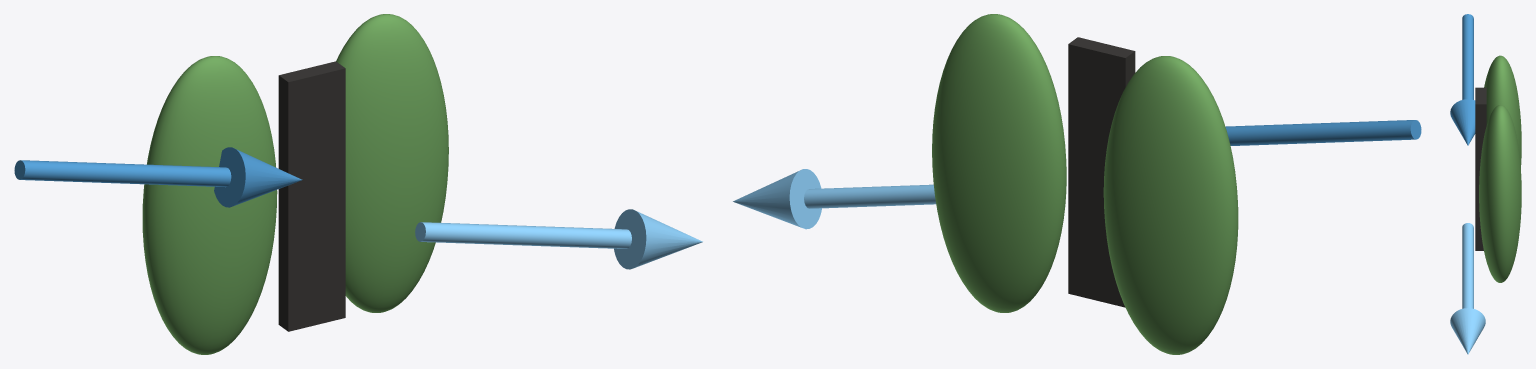
Rendered from bio-p1-stomata.glb.
3 renders of one model, left to right at view 1: azimuth 30°, elevation 25°; view 2: azimuth 150°, elevation 25°; view 3: azimuth 270°, elevation 25°, orthographic. The views are drawn at different scales.
Parts seen in each view (by area): view 1: left-guard-cell, right-guard-cell, open-stoma-pore-gap, carbon-dioxide-in-shaft, water-vapor-out-shaft, water-vapor-out-head, carbon-dioxide-in-head; view 2: left-guard-cell, right-guard-cell, open-stoma-pore-gap, carbon-dioxide-in-shaft, water-vapor-out-head, water-vapor-out-shaft; view 3: right-guard-cell, left-guard-cell, open-stoma-pore-gap, water-vapor-out-head, carbon-dioxide-in-shaft, water-vapor-out-shaft, carbon-dioxide-in-head.
Boxes of the visible parts, left/top/right/bottom form: left-guard-cell: left=142, top=56, right=277, bottom=354; right-guard-cell: left=336, top=14, right=448, bottom=312; open-stoma-pore-gap: left=278, top=61, right=345, bottom=331; carbon-dioxide-in-shaft: left=14, top=160, right=231, bottom=187; water-vapor-out-shaft: left=415, top=222, right=631, bottom=248; water-vapor-out-head: left=614, top=209, right=702, bottom=269; carbon-dioxide-in-head: left=214, top=147, right=302, bottom=207; left-guard-cell: left=1103, top=56, right=1238, bottom=354; right-guard-cell: left=932, top=14, right=1066, bottom=312; open-stoma-pore-gap: left=1068, top=37, right=1135, bottom=307; carbon-dioxide-in-shaft: left=1225, top=120, right=1421, bottom=145; water-vapor-out-head: left=733, top=169, right=821, bottom=229; water-vapor-out-shaft: left=804, top=184, right=935, bottom=208; right-guard-cell: left=1479, top=105, right=1521, bottom=282; left-guard-cell: left=1484, top=55, right=1521, bottom=167; open-stoma-pore-gap: left=1475, top=87, right=1486, bottom=250; water-vapor-out-head: left=1450, top=308, right=1485, bottom=354; carbon-dioxide-in-shaft: left=1462, top=14, right=1473, bottom=99; water-vapor-out-shaft: left=1462, top=223, right=1473, bottom=308; carbon-dioxide-in-head: left=1450, top=99, right=1475, bottom=145.
Size of what is drawn, in the model's own units: 1.44 by 0.594 by 0.221.
